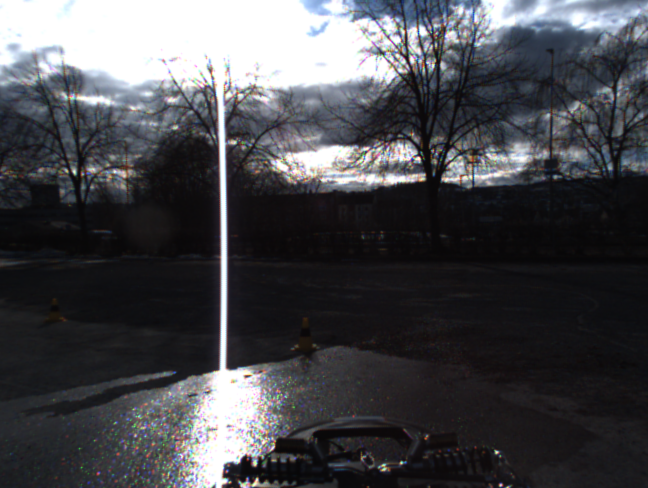cone-small-yellow: (291, 317, 318, 350), (45, 297, 64, 322)
